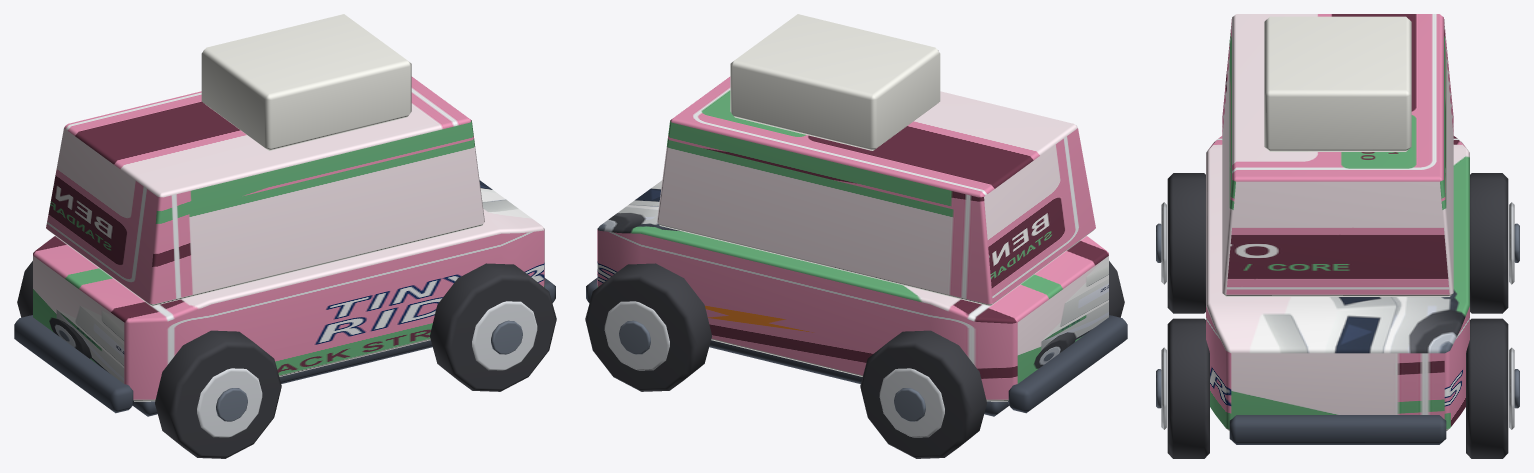
The picture shows the model from 3 angles, left to right: view 1: azimuth 30°, elevation 25°; view 2: azimuth 150°, elevation 25°; view 3: azimuth 270°, elevation 25°; orthographic projection. The views are drawn at different scales.
Visible parts, largest first — view 1: SS-04_cabin, SS-04_connected_shell, lunch box, Tire, Tire.002, front bumper, Rim, Rim.002, underbody, Hub.002, Hub, Tire.001; view 2: SS-04_cabin, SS-04_connected_shell, lunch box, Tire.001, Tire.003, front bumper, Rim.001, Rim.003, underbody, Hub.003, Hub.001, Tire; view 3: SS-04_cabin, SS-04_connected_shell, lunch box, rear bumper, Tire.002, Tire.003, Tire, Tire.001, Rim, Rim.001, Rim.002, Rim.003.
Boxes of the visible parts, bbox=[...] form: SS-04_cabin: bbox=[46, 76, 484, 306]; SS-04_connected_shell: bbox=[33, 180, 544, 401]; lunch box: bbox=[201, 14, 411, 150]; Tire: bbox=[155, 330, 281, 458]; Tire.002: bbox=[430, 263, 556, 391]; front bumper: bbox=[14, 315, 133, 413]; Rim: bbox=[197, 368, 262, 437]; Rim.002: bbox=[472, 301, 537, 370]; underbody: bbox=[132, 340, 432, 416]; Hub.002: bbox=[491, 320, 522, 354]; Hub: bbox=[216, 388, 247, 421]; Tire.001: bbox=[17, 261, 32, 317]; SS-04_cabin: bbox=[657, 76, 1095, 306]; SS-04_connected_shell: bbox=[597, 180, 1108, 401]; lunch box: bbox=[730, 14, 940, 150]; Tire.001: bbox=[860, 330, 986, 458]; Tire.003: bbox=[585, 263, 711, 391]; front bumper: bbox=[1008, 315, 1127, 413]; Rim.001: bbox=[879, 368, 944, 437]; Rim.003: bbox=[604, 301, 669, 370]; underbody: bbox=[709, 340, 1009, 416]; Hub.003: bbox=[619, 320, 650, 354]; Hub.001: bbox=[894, 388, 925, 421]; Tire: bbox=[1109, 261, 1124, 317]; SS-04_cabin: bbox=[1222, 14, 1453, 296]; SS-04_connected_shell: bbox=[1206, 136, 1469, 430]; lunch box: bbox=[1264, 16, 1411, 151]; rear bumper: bbox=[1229, 415, 1446, 444]; Tire.002: bbox=[1167, 318, 1209, 458]; Tire.003: bbox=[1466, 318, 1508, 458]; Tire: bbox=[1167, 173, 1205, 313]; Tire.001: bbox=[1470, 173, 1508, 313]; Rim: bbox=[1161, 202, 1166, 284]; Rim.001: bbox=[1509, 202, 1514, 284]; Rim.002: bbox=[1161, 347, 1166, 429]; Rim.003: bbox=[1509, 347, 1514, 429].
Bounding box in the file's own units: 341 × 227 × 222.
